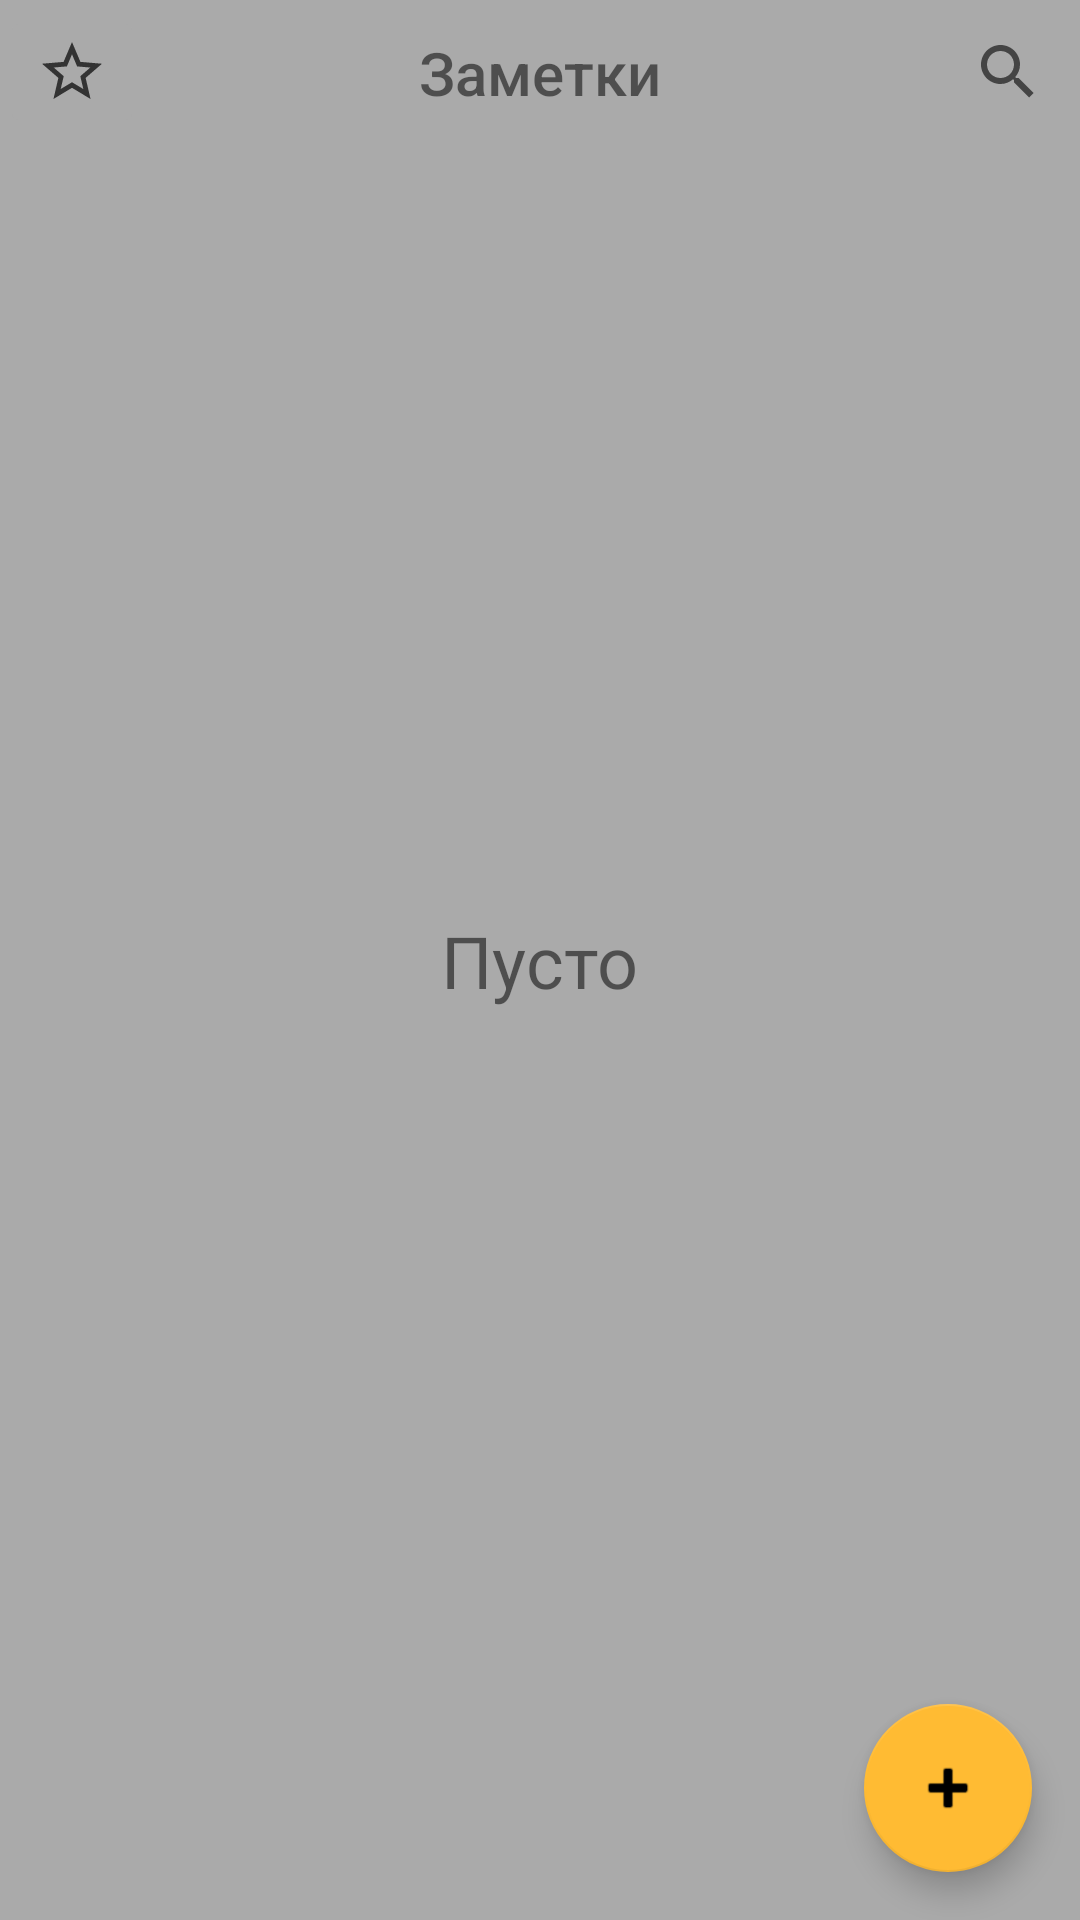

Where icons sit on this 1080×1920 app screen, as (x1, y1, x2, y2):
Press to add smth: (864, 1704, 1032, 1872)
Press to filter by star: (43, 43, 101, 99)
